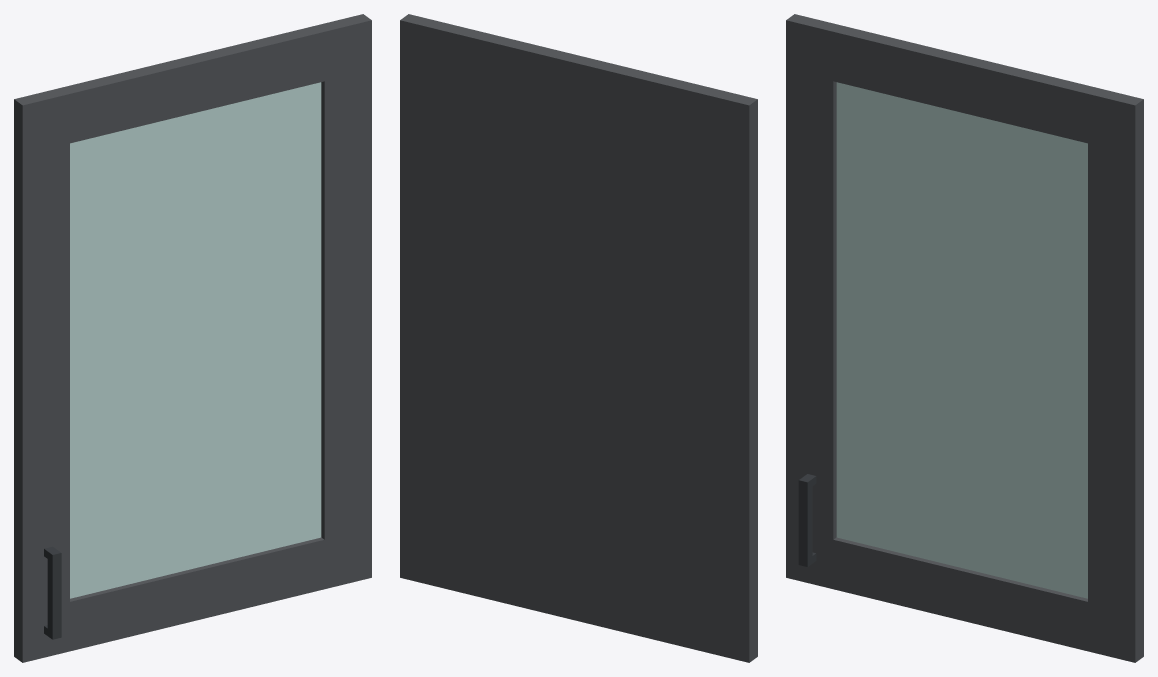
The model's file is BathroomDoor_C3_04.fbx.
3 renders of one model, left to right at view 1: azimuth 30°, elevation 25°; view 2: azimuth 150°, elevation 25°; view 3: azimuth 330°, elevation 25°, orthographic.
Parts seen in each view (by area): view 1: BathroomDoor_C3_04; view 2: BathroomDoor_C3_04; view 3: BathroomDoor_C3_04.
Part boxes in pixels (x1,y1,x2,y2): BathroomDoor_C3_04: (14, 14, 371, 662); BathroomDoor_C3_04: (400, 14, 757, 662); BathroomDoor_C3_04: (786, 14, 1143, 662).
Size of the model in its own units: 59 by 90 by 5.03.
